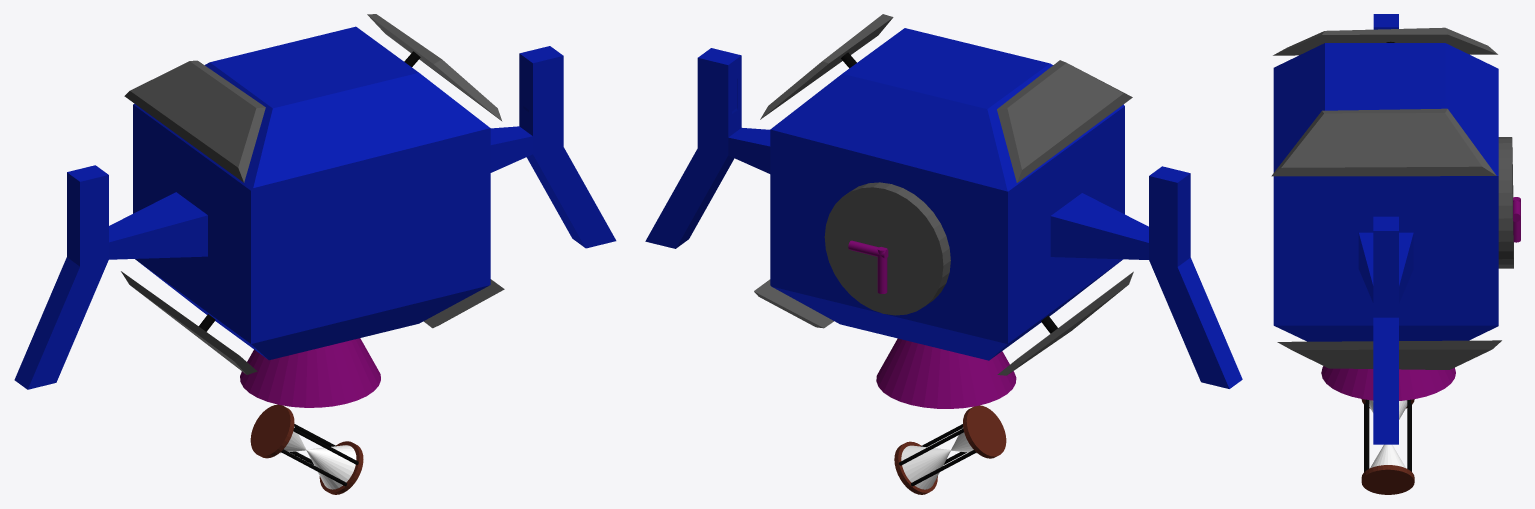
Rendered from bomba do tempo fr(1).fbx.
The picture shows the model from 3 angles, left to right: view 1: azimuth 30°, elevation 25°; view 2: azimuth 150°, elevation 25°; view 3: azimuth 270°, elevation 25°; orthographic projection. The views are drawn at different scales.
Visible parts, largest first — view 1: Cube, Cube.003, Cone.002, Cube.004, Cylinder.006, Cube.001, Cone, Cube.002; view 2: Cube, Cylinder, Cube.003, Cone.002, Cube.004, Cylinder.006, Cube.001, Cone, Cube.002; view 3: Cube, Cube.004, Cube.002, Cube.003, Cone.002, Cylinder, Cylinder.007, Cone, Cylinder.004.
Boxes of the visible parts, box(x1,y1,x2,y2) form: Cube: box(14, 26, 616, 389); Cube.003: box(124, 60, 265, 182); Cone.002: box(240, 338, 380, 407); Cube.004: box(367, 14, 502, 121); Cylinder.006: box(250, 404, 294, 458); Cube.001: box(121, 271, 257, 374); Cone: box(306, 445, 356, 489); Cube.002: box(424, 279, 504, 328); Cube: box(645, 28, 1242, 388); Cylinder: box(824, 182, 950, 315); Cube.003: box(997, 60, 1132, 182); Cone.002: box(876, 338, 1016, 408); Cube.004: box(760, 14, 893, 119); Cylinder.006: box(963, 405, 1006, 458); Cube.001: box(997, 271, 1133, 375); Cone: box(901, 445, 950, 489); Cube.002: box(754, 279, 833, 328); Cube: box(1273, 14, 1498, 444); Cube.004: box(1271, 108, 1496, 176); Cube.002: box(1277, 340, 1501, 369); Cube.003: box(1273, 27, 1497, 55); Cone.002: box(1321, 366, 1455, 400); Cylinder: box(1498, 137, 1513, 268); Cylinder.007: box(1361, 465, 1414, 494); Cone: box(1370, 444, 1405, 468); Cylinder.004: box(1365, 399, 1369, 470).
Bounding box in the file's own units: 492 × 350 × 189.
